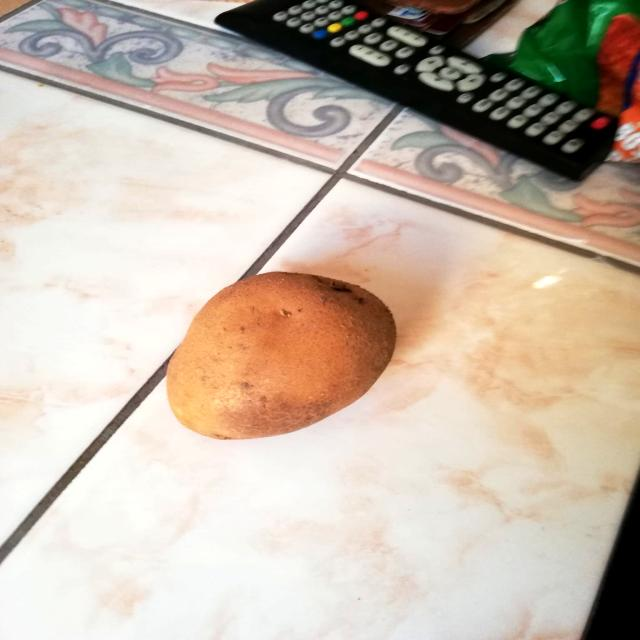potato: (154, 255, 407, 445)
